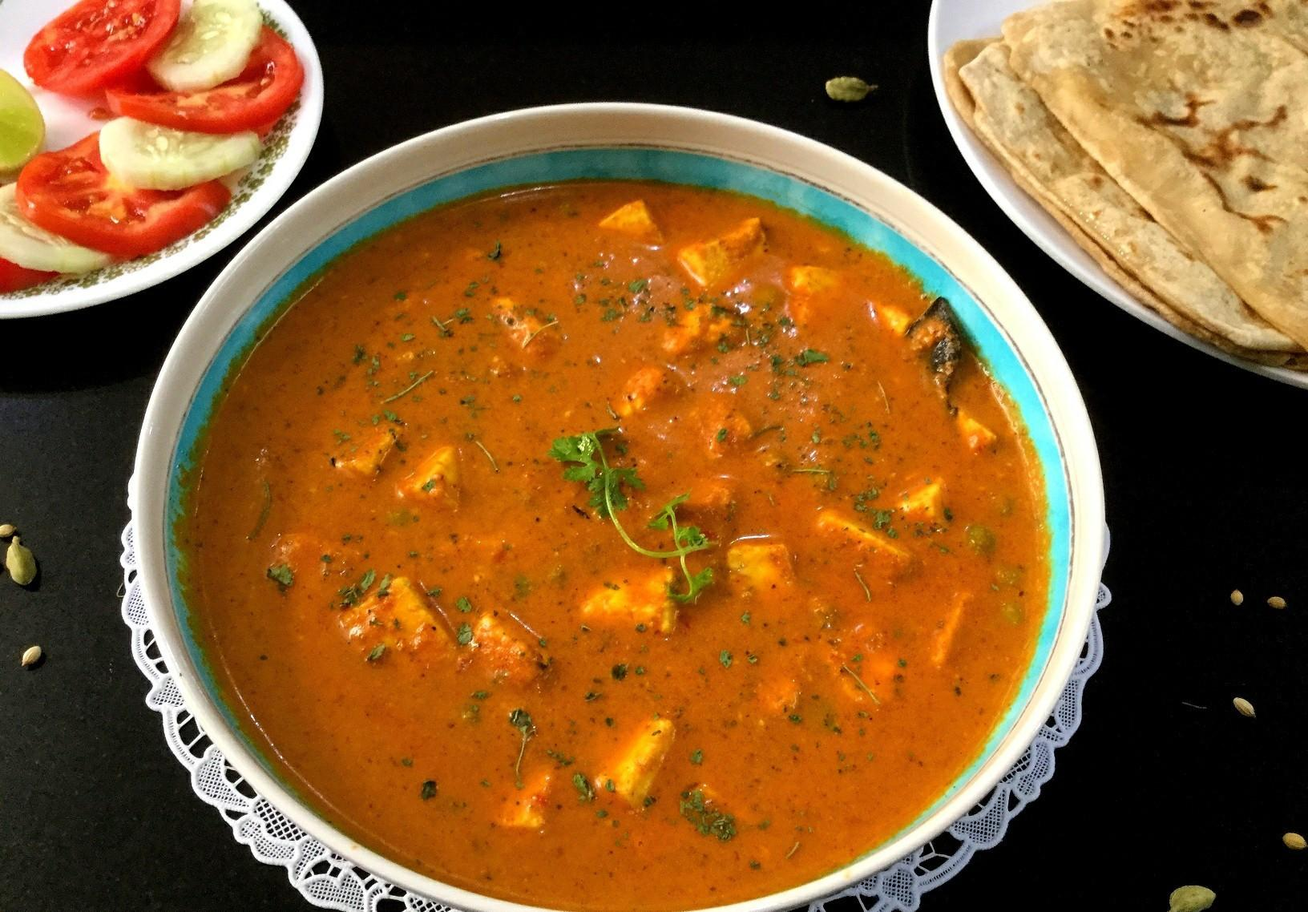ShahiPaneer: (193, 177, 1047, 912)
